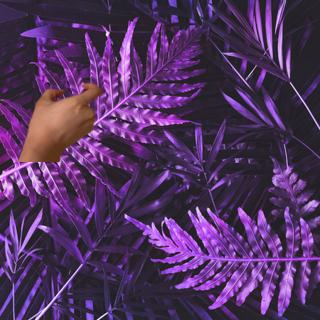HATE: (19, 77, 106, 154)
